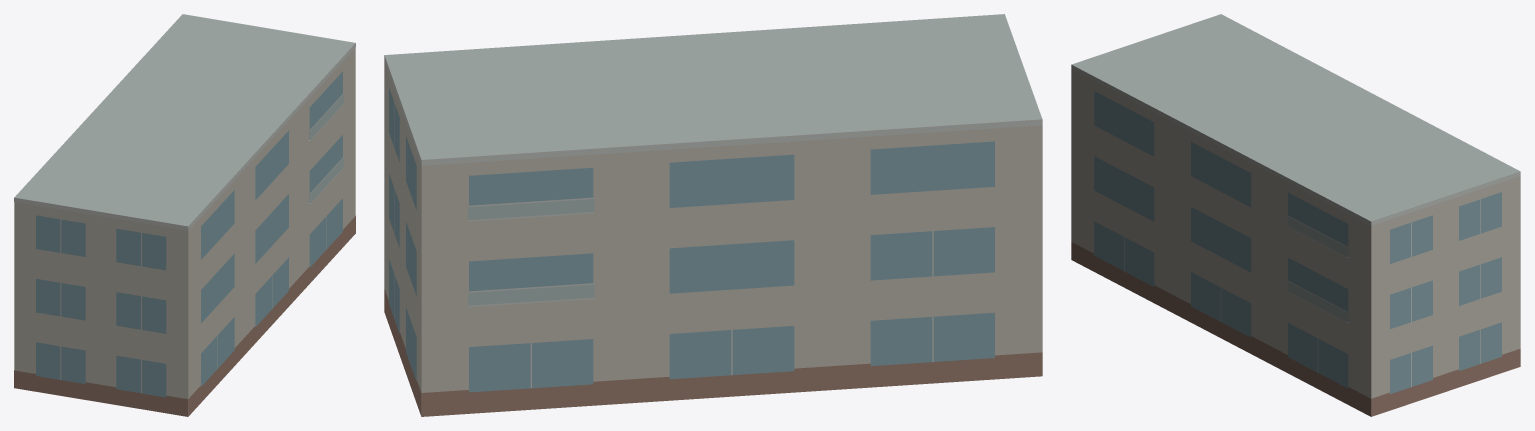
File: survey-upis-32765949.glb
3 renders of one model, left to right at view 1: azimuth 30°, elevation 25°; view 2: azimuth 150°, elevation 25°; view 3: azimuth 270°, elevation 25°, orthographic. The views are drawn at different scales.
Parts seen in each view (by area): view 1: survey-upis-32765949.tmp; view 2: survey-upis-32765949.tmp; view 3: survey-upis-32765949.tmp.
Boxes of the visible parts, x1,y1,x2,y2 form: survey-upis-32765949.tmp: (14,14,355,416); survey-upis-32765949.tmp: (384,14,1042,416); survey-upis-32765949.tmp: (1071,14,1520,416).
Bounding box in the file's own units: 24.16 × 10.6 × 22.1.
